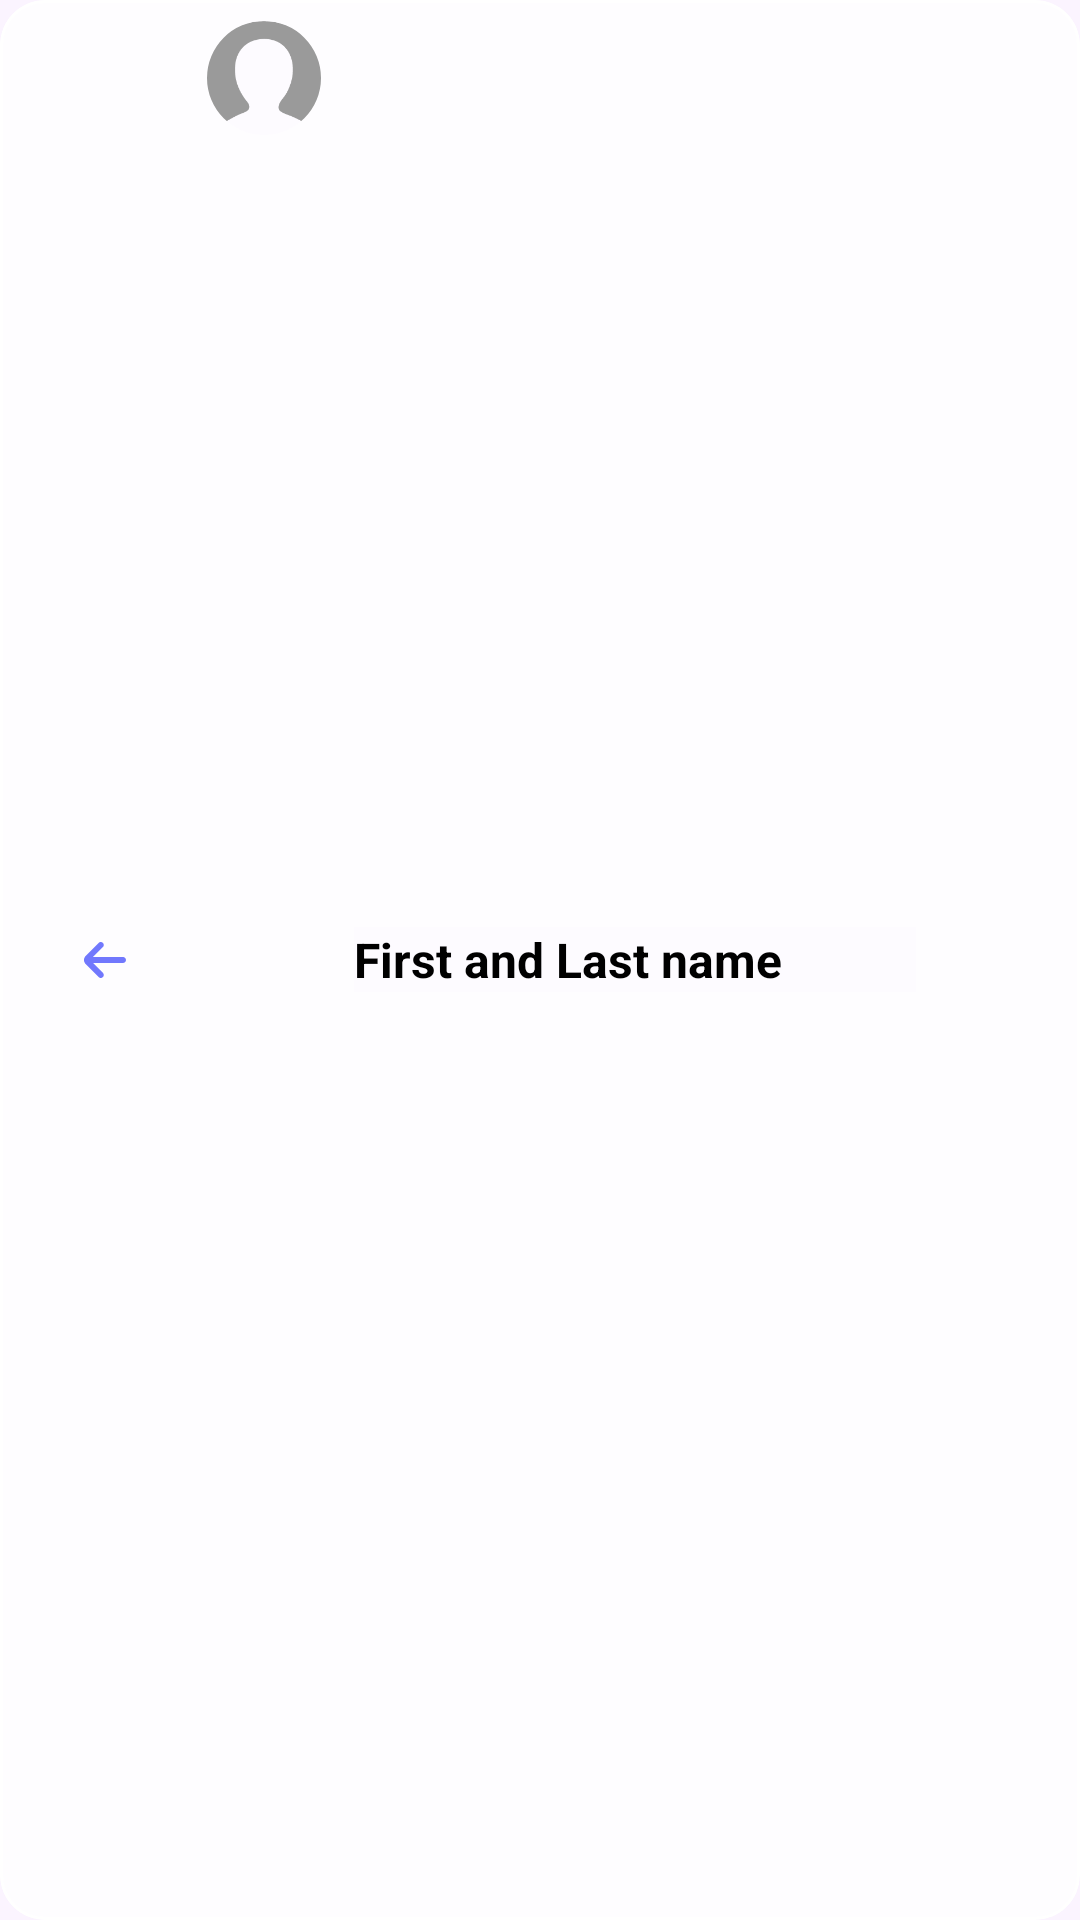

Screen size 1080×1920. Icon name, then its box in pixels as (x1, y1, x2, y2):
back: (84, 942, 126, 978)
user: (207, 21, 321, 121)
